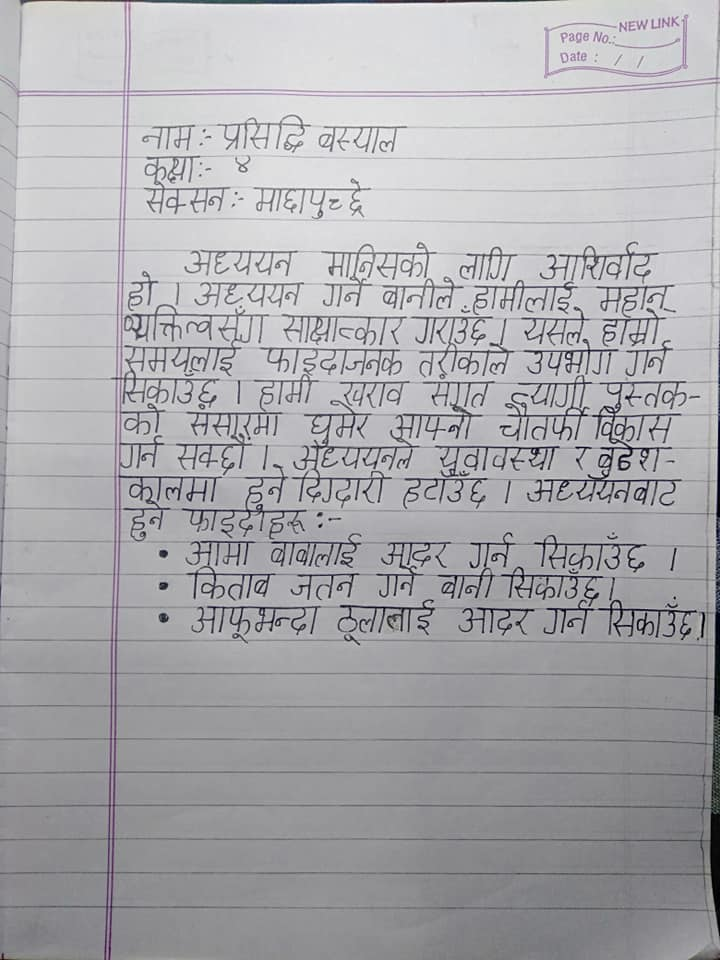text: (118, 305, 269, 343), (525, 473, 685, 508), (190, 601, 325, 641), (536, 239, 658, 281), (252, 178, 376, 219), (534, 531, 653, 572), (333, 600, 437, 643), (255, 344, 405, 373), (321, 241, 437, 278), (276, 312, 404, 345), (433, 443, 561, 476), (178, 507, 312, 538), (293, 439, 417, 472), (120, 339, 240, 373), (218, 113, 312, 156), (500, 566, 608, 603), (601, 598, 697, 639), (183, 246, 299, 279), (294, 468, 390, 507), (113, 371, 219, 406), (472, 280, 576, 315), (497, 402, 587, 442), (400, 473, 492, 511), (415, 343, 514, 378), (193, 277, 304, 308), (185, 404, 283, 439), (316, 120, 411, 156), (269, 534, 363, 569), (591, 405, 676, 443), (139, 180, 229, 215), (186, 565, 273, 601), (386, 406, 478, 440), (172, 435, 254, 473), (302, 402, 372, 446), (116, 473, 222, 502), (599, 378, 692, 410), (456, 602, 535, 639), (523, 345, 617, 376), (414, 306, 489, 344), (595, 437, 665, 477), (379, 278, 459, 311), (596, 281, 675, 313), (508, 377, 589, 408), (519, 309, 586, 345), (252, 373, 317, 410), (239, 464, 290, 510), (601, 309, 664, 346), (458, 245, 517, 283), (422, 375, 493, 405), (337, 376, 405, 407), (122, 500, 172, 542), (380, 538, 450, 568), (288, 571, 358, 601), (539, 601, 594, 638), (437, 567, 496, 601), (465, 531, 512, 570), (186, 540, 252, 567), (316, 277, 371, 308), (140, 123, 196, 153), (141, 153, 197, 183), (116, 435, 163, 470), (374, 565, 421, 599), (625, 343, 672, 376), (120, 404, 164, 436), (124, 270, 156, 311), (570, 443, 591, 473), (229, 153, 256, 175)
